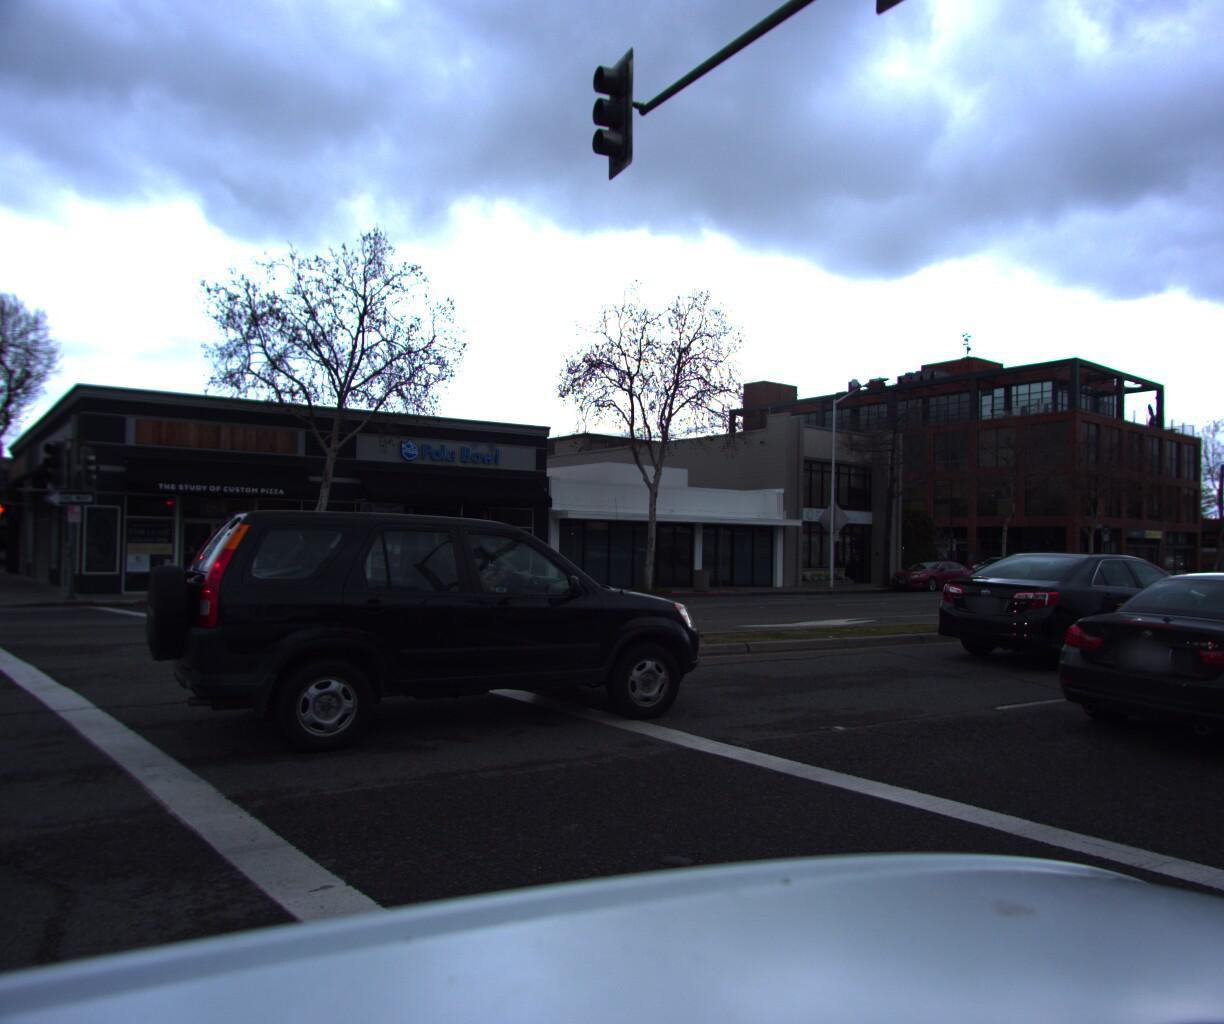car: (81, 492, 709, 786), (1002, 557, 1224, 798), (918, 541, 1222, 679), (879, 553, 978, 590)
